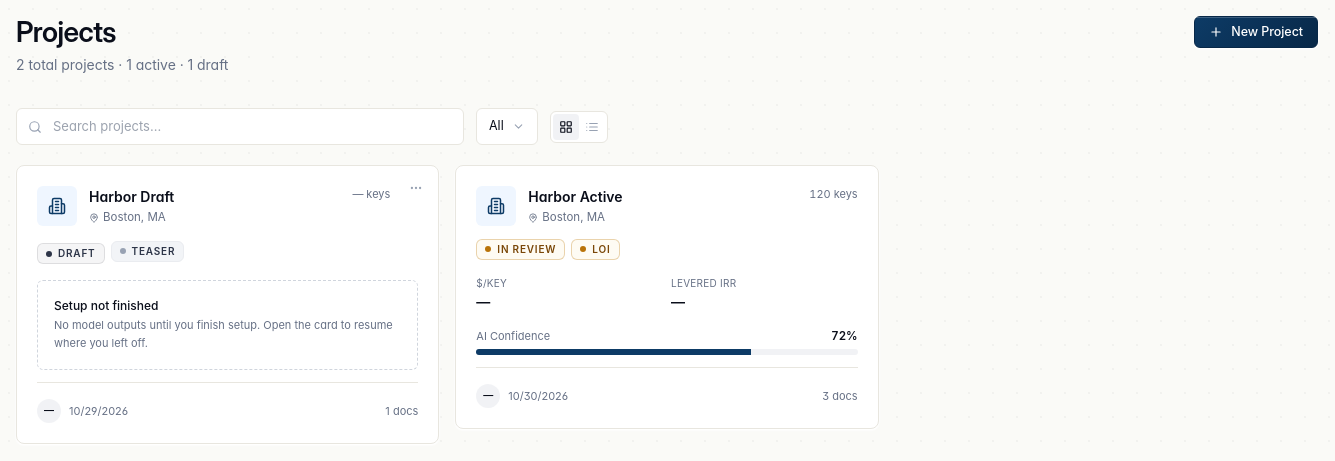
it: Projects list — a draft card › opens in the wizard, not the deal page; its kebab sits beside the link, not inside it
Click the button named "More actions".
click(416, 188)  # box x1=405 y1=177 x2=427 y2=199
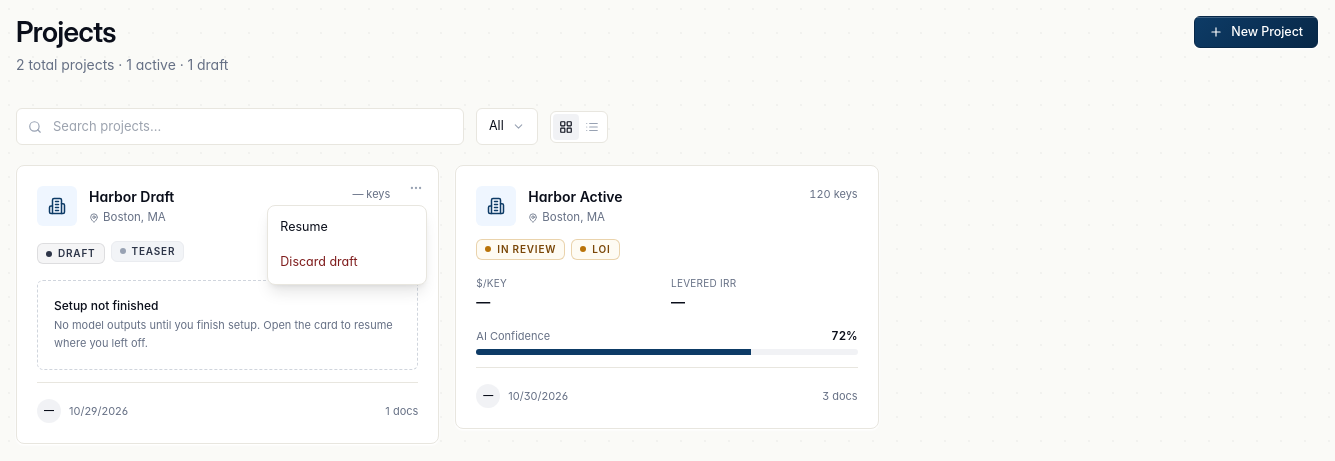
Now the button "Discard draft" is shown, box x1=268 y1=245 x2=426 y2=280
